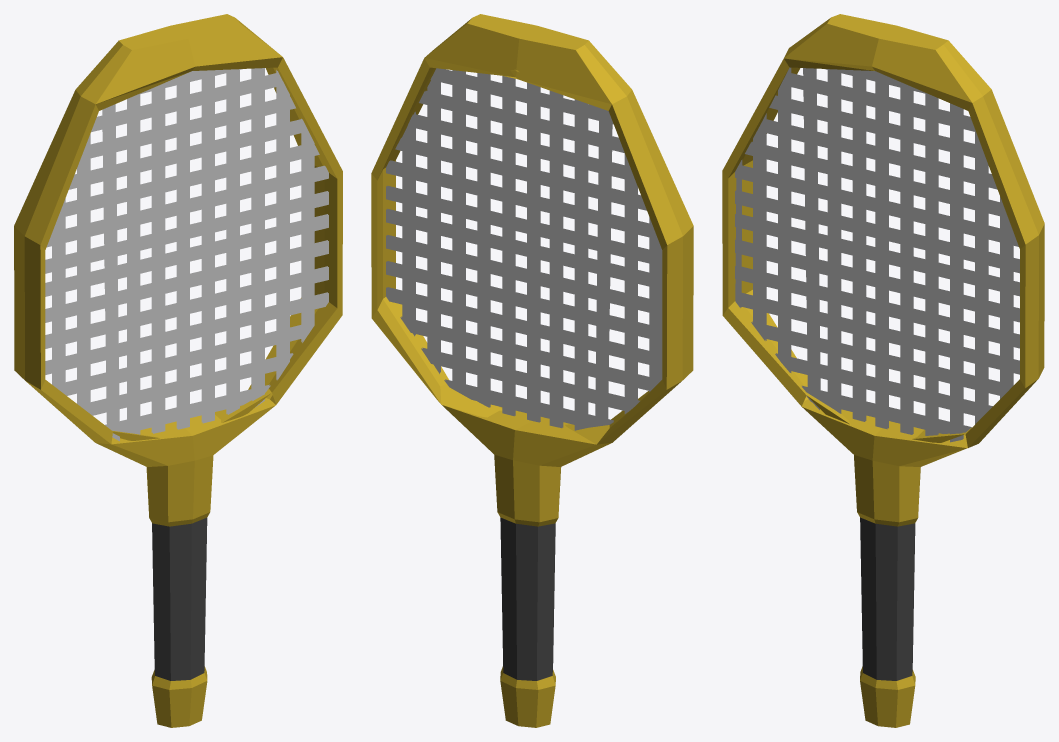
Rendered from tennisracket.fbx.
3 renders of one model, left to right at view 1: azimuth 30°, elevation 25°; view 2: azimuth 150°, elevation 25°; view 3: azimuth 330°, elevation 25°, orthographic.
Parts seen in each view (by area): view 1: Plane, Cylinder; view 2: Plane, Cylinder; view 3: Plane, Cylinder.
Boxes of the visible parts, x1,y1,x2,y2 form: Plane: [45, 68, 328, 441]; Cylinder: [14, 14, 342, 727]; Plane: [386, 68, 662, 430]; Cylinder: [371, 14, 693, 727]; Plane: [735, 67, 1019, 442]; Cylinder: [722, 14, 1044, 727].
Bounding box in the file's own units: 36.93 × 79.42 × 6.5.
